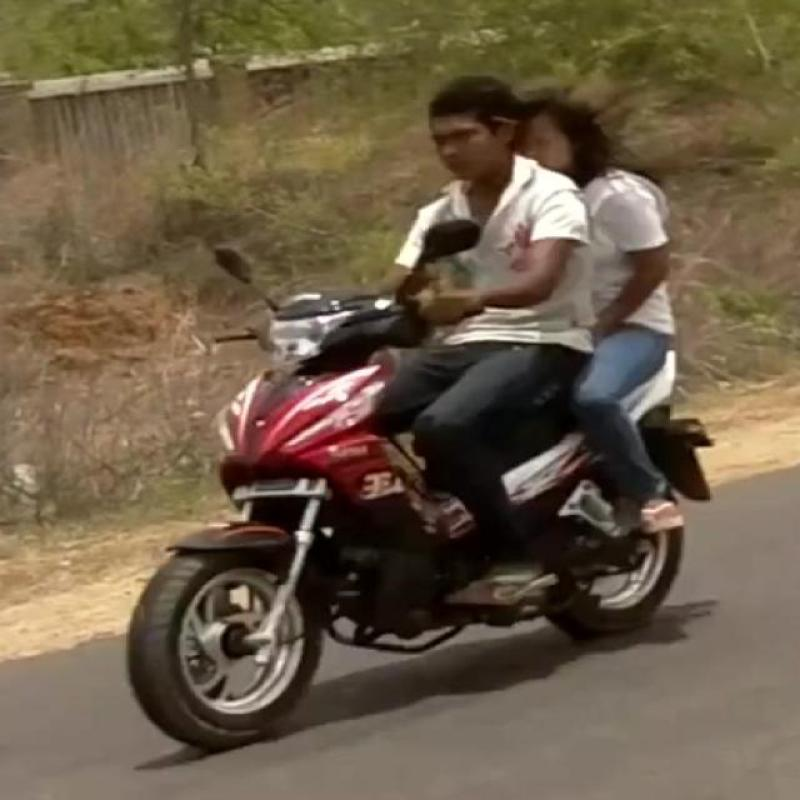nohelmet: (382, 75, 612, 220)
